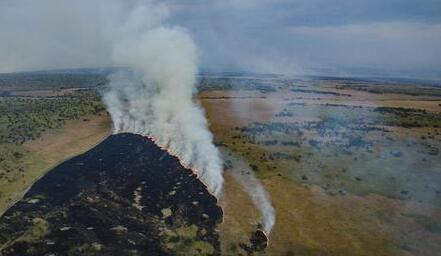yanwu: (95, 0, 226, 194), (218, 145, 275, 235)
